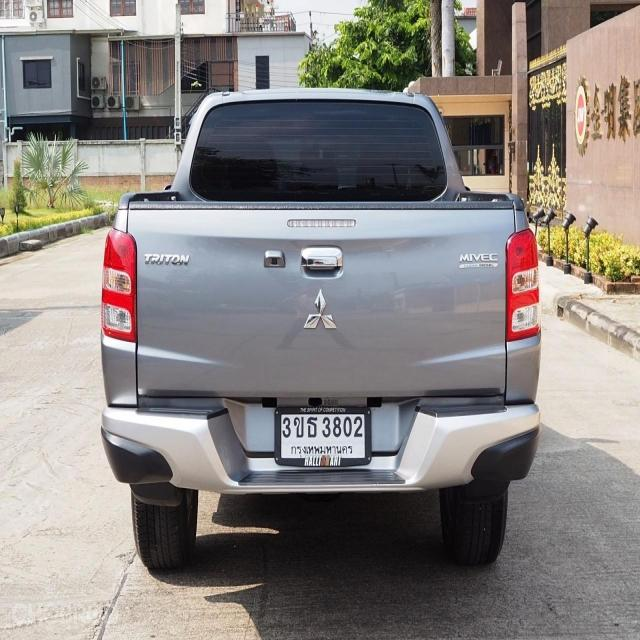license_plate: (276, 408, 374, 468)
